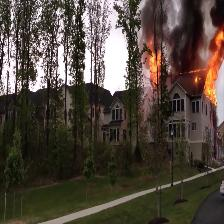fire: (209, 36, 224, 101), (144, 47, 167, 81)
smoke: (147, 1, 202, 47), (173, 48, 201, 70)
